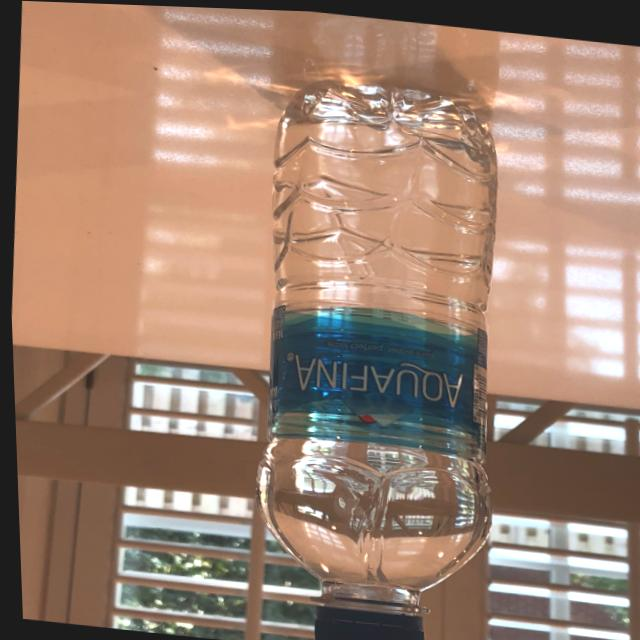anorganik: (210, 61, 550, 640)
